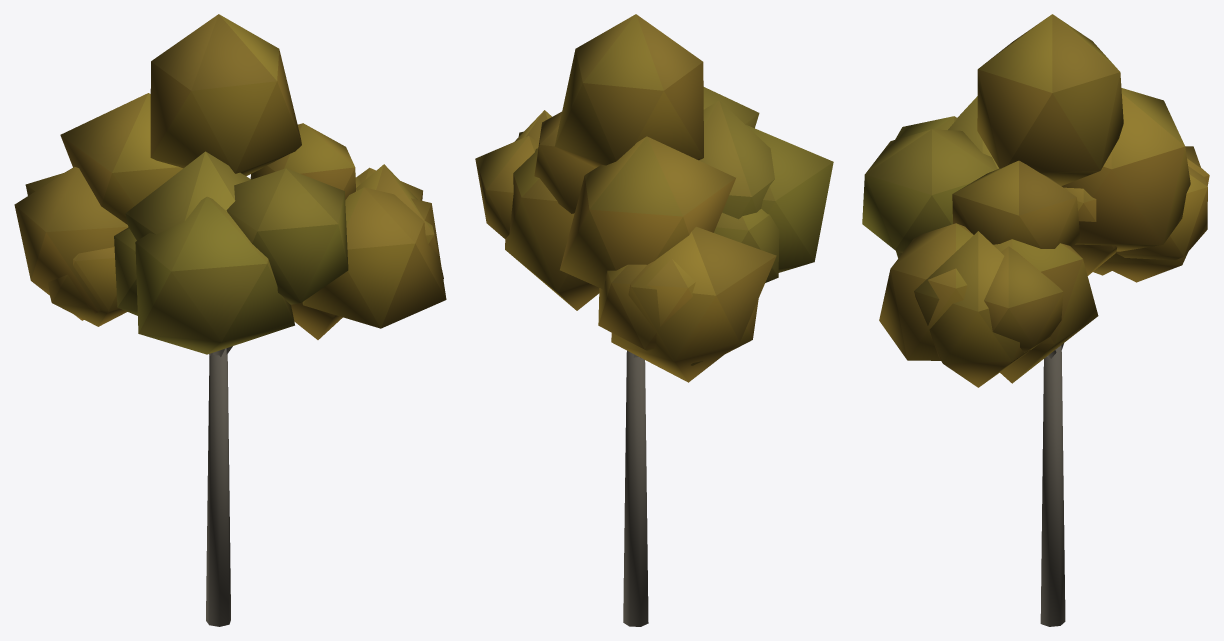
File: env_ash_t_aut.glb
3 views of the same model, side by side, from view 1: azimuth 30°, elevation 25°; view 2: azimuth 150°, elevation 25°; view 3: azimuth 270°, elevation 25° (orthographic).
Visible parts, largest first — view 1: env_ash_t_aut; view 2: env_ash_t_aut; view 3: env_ash_t_aut.
Boxes of the visible parts, box(x1,y1,x2,y2) form: env_ash_t_aut: box(14, 14, 446, 626); env_ash_t_aut: box(475, 14, 833, 626); env_ash_t_aut: box(862, 14, 1209, 626).
Bounding box in the file's own units: 12.67 × 21.67 × 11.24.
